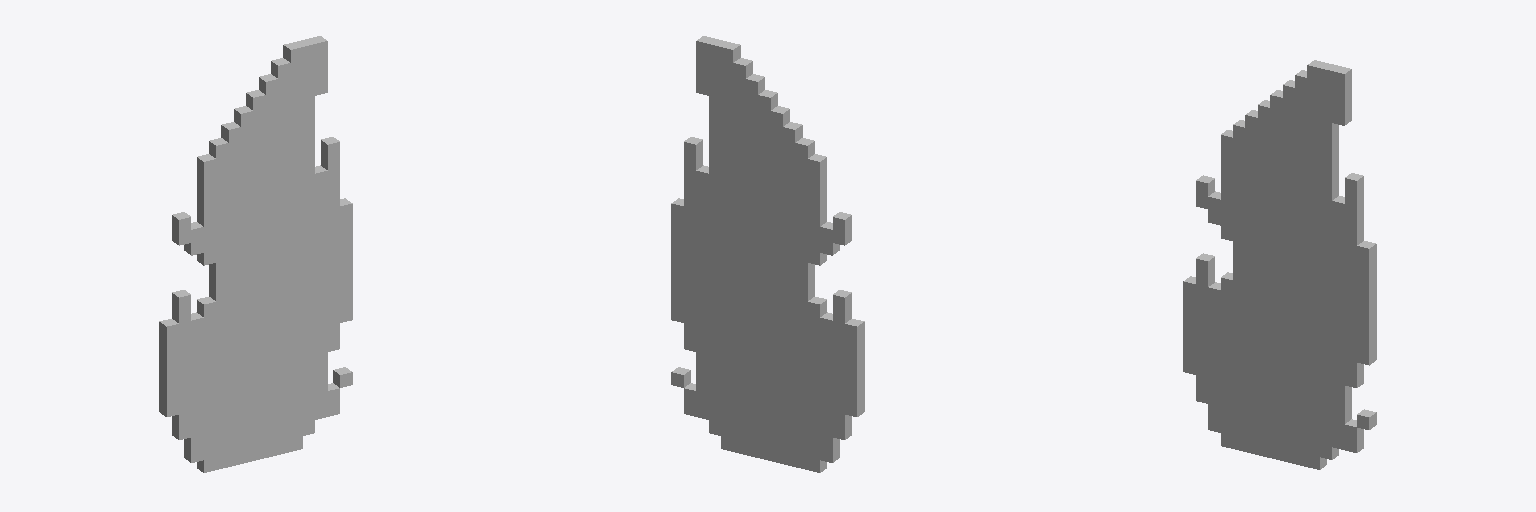
The model's file is Fire.obj.
3 views of the same model, side by side, from view 1: azimuth 30°, elevation 25°; view 2: azimuth 150°, elevation 25°; view 3: azimuth 330°, elevation 25° (orthographic).
Parts seen in each view (by area): view 1: object 1; view 2: object 1; view 3: object 1.
Part boxes in pixels (x1,y1,x2,y2): object 1: (159,36,352,472); object 1: (671,36,864,472); object 1: (1183,60,1376,469).
Size of the model in its own units: 1.5 by 3.1 by 0.1.